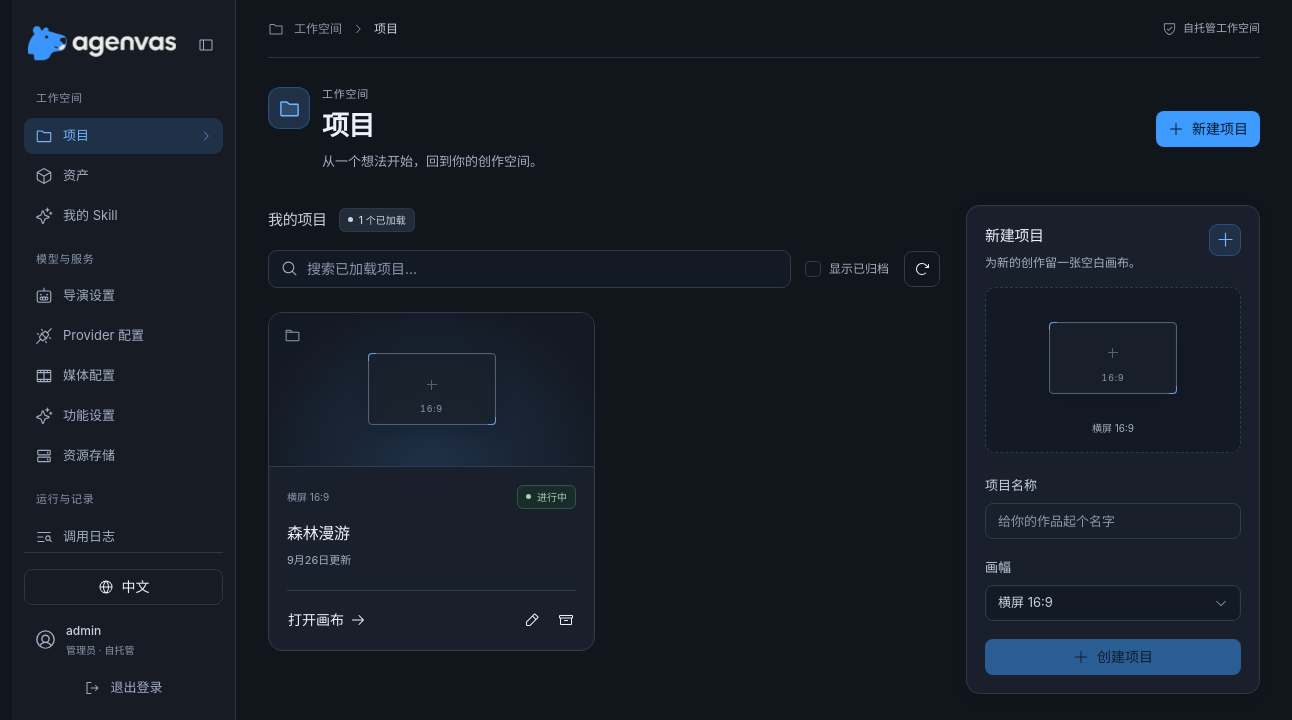
it: ProjectsPage › preserves the create draft after failure and uses its chosen aspect on retry
The image size is (1292, 720).
Type "新世界" into the field labelled "项目名称". click: (1113, 521)
box: 985,503 -> 1241,539
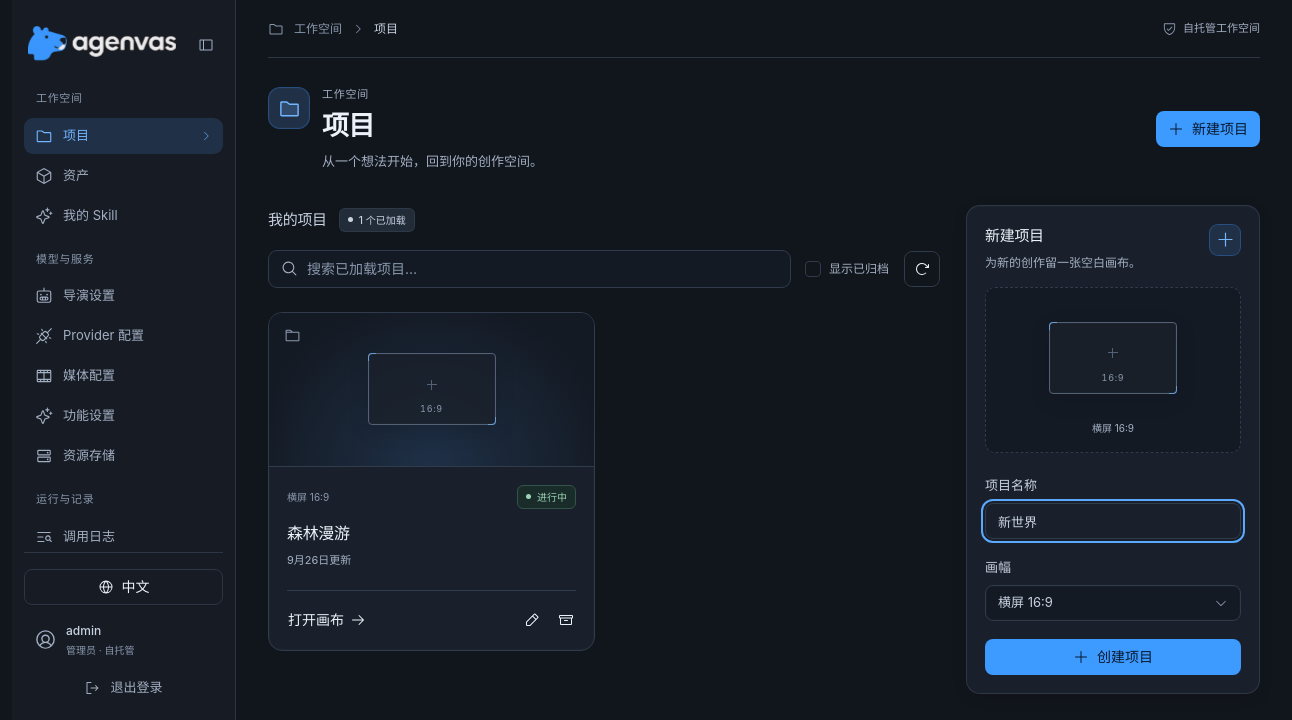
Click the dropdown named "画幅". click: (1113, 603)
box: 985,585 -> 1241,621
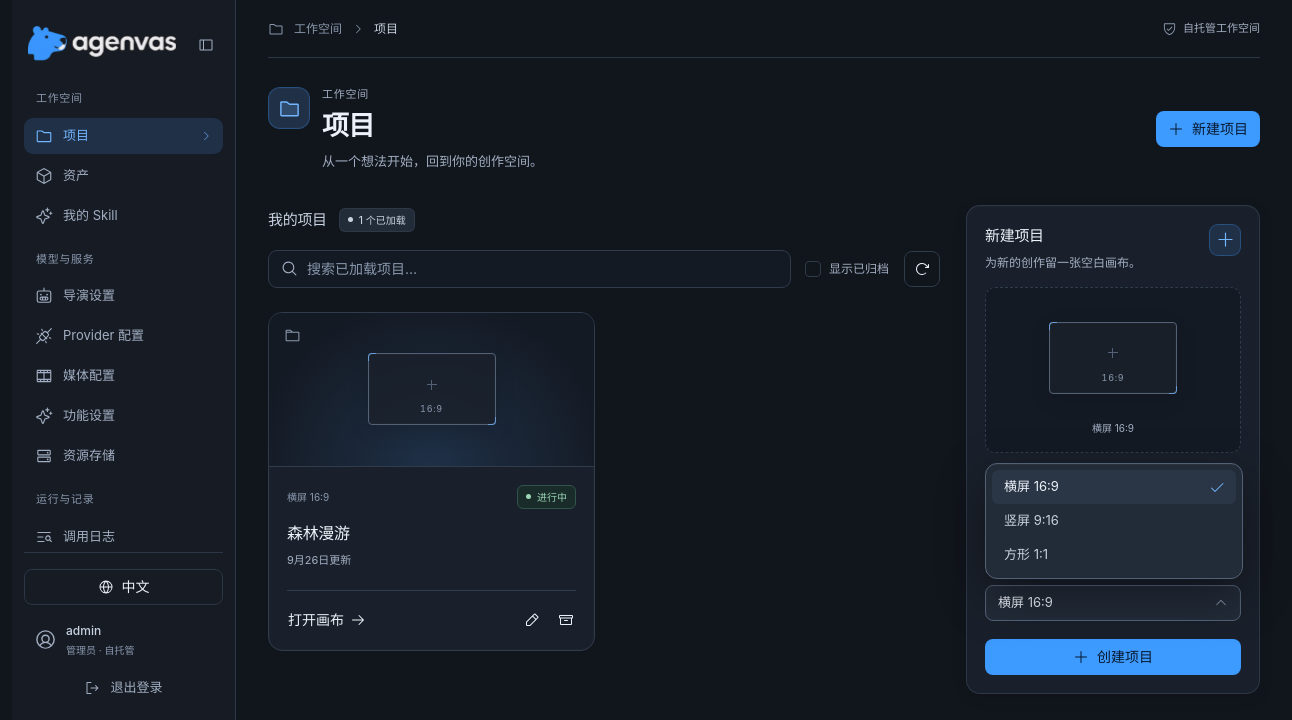
Click the option "竖屏 9:16". click: (1031, 520)
box: 1004,512 -> 1059,528
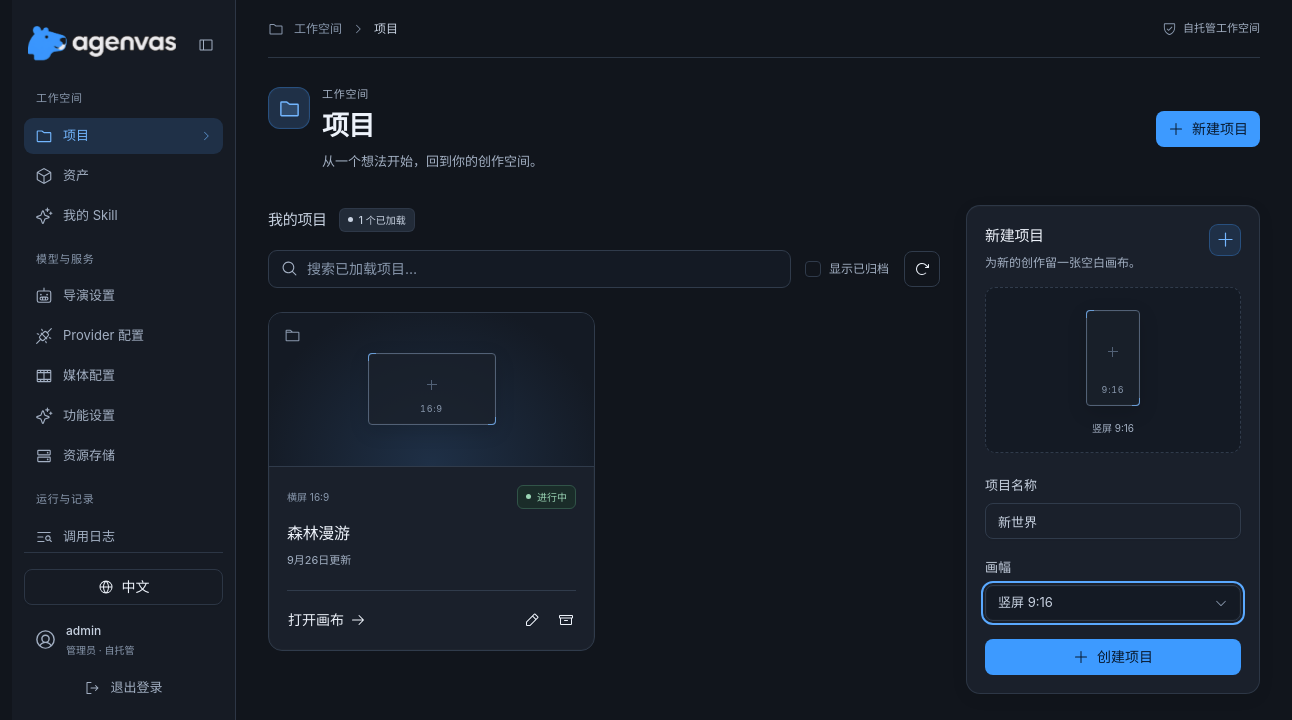
Click the button "创建项目". click: (1113, 657)
box: 985,639 -> 1241,675
(page scrolled)
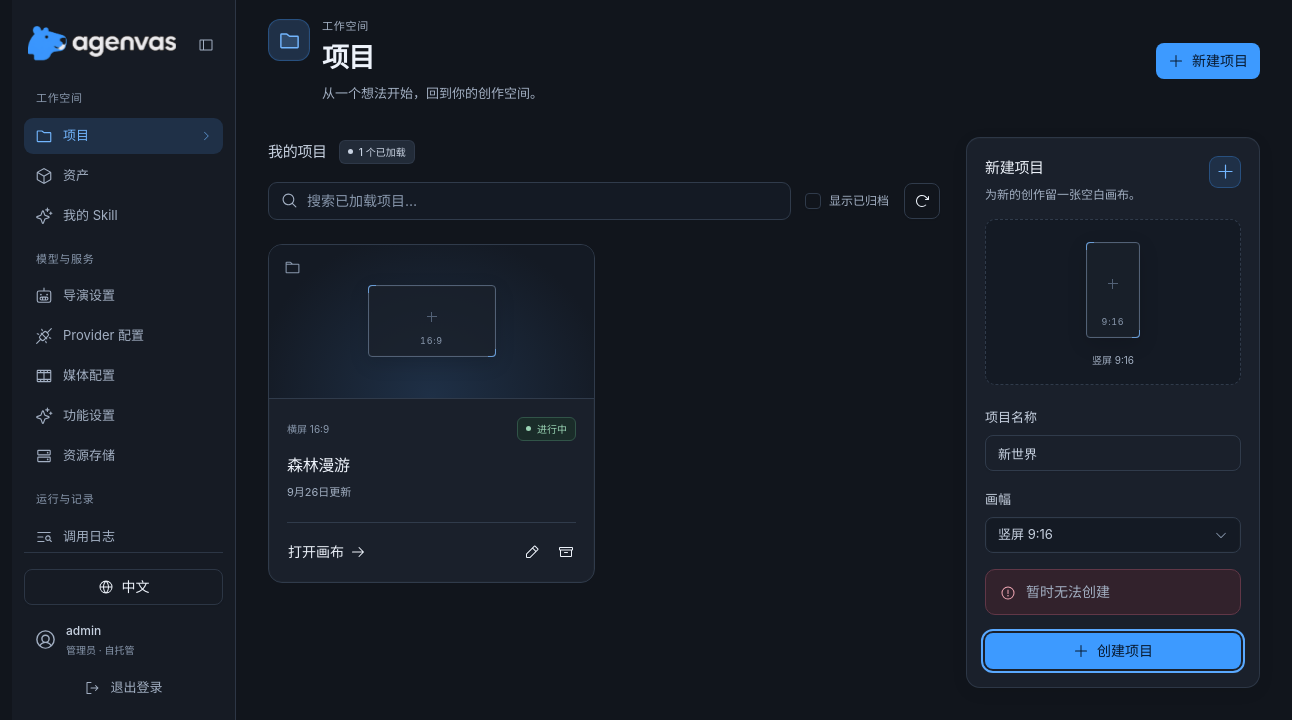
Now the message reads "暂时无法创建", box 1026,583 -> 1110,600
Click the button "创建项目". click: (1113, 651)
box: 985,633 -> 1241,669
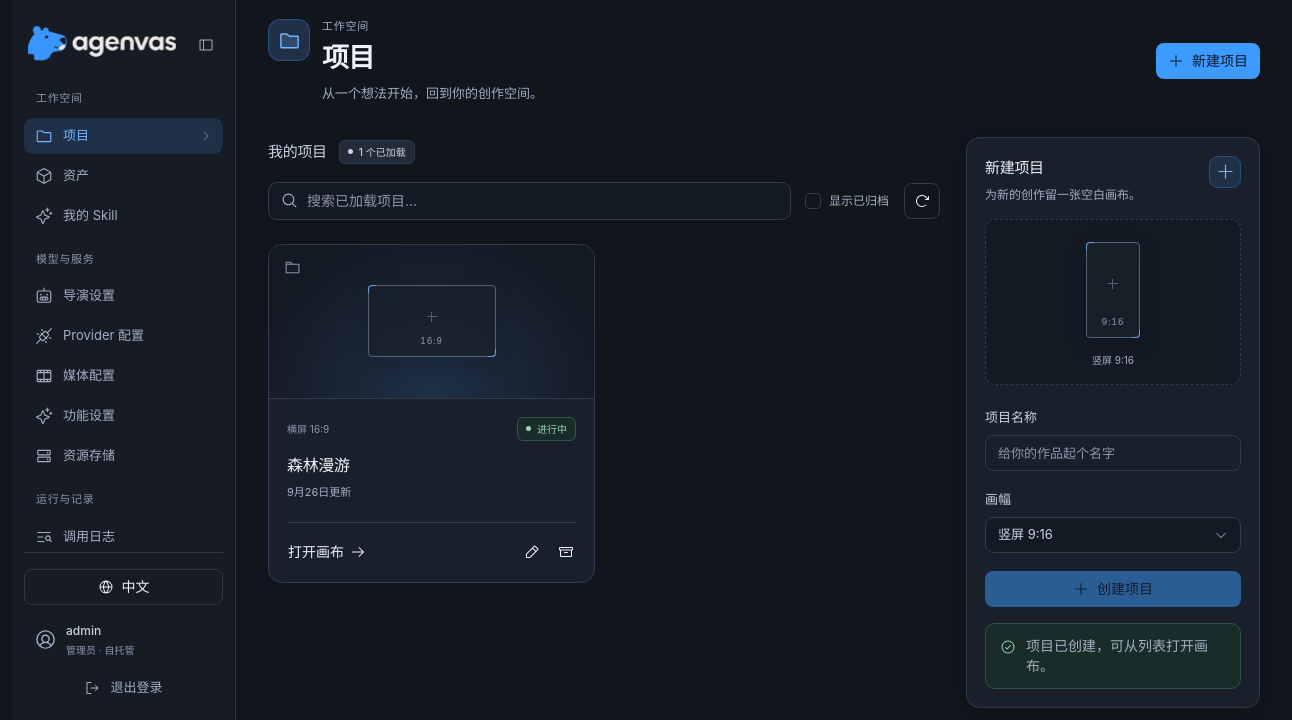
Now the text "项目已创建，可从列表打开画布。" is shown, box 1026,636 -> 1226,676
Now the field labelled "项目名称" is empty, box 985,435 -> 1241,471
